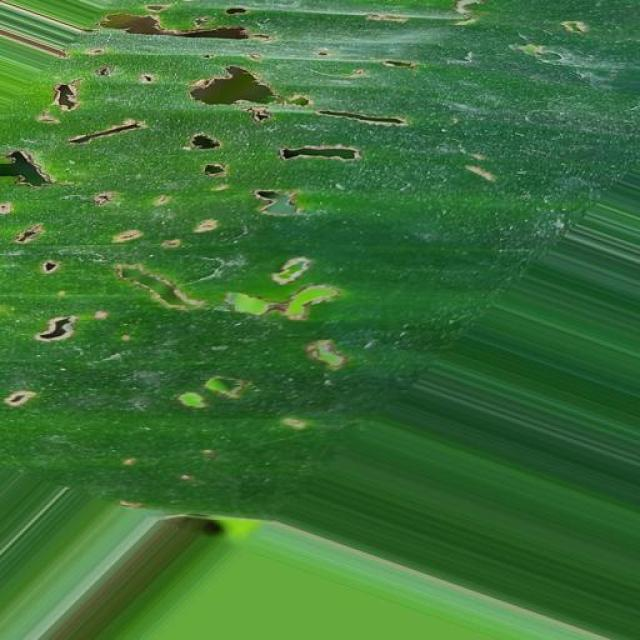Black_rot: (3, 0, 640, 517)
